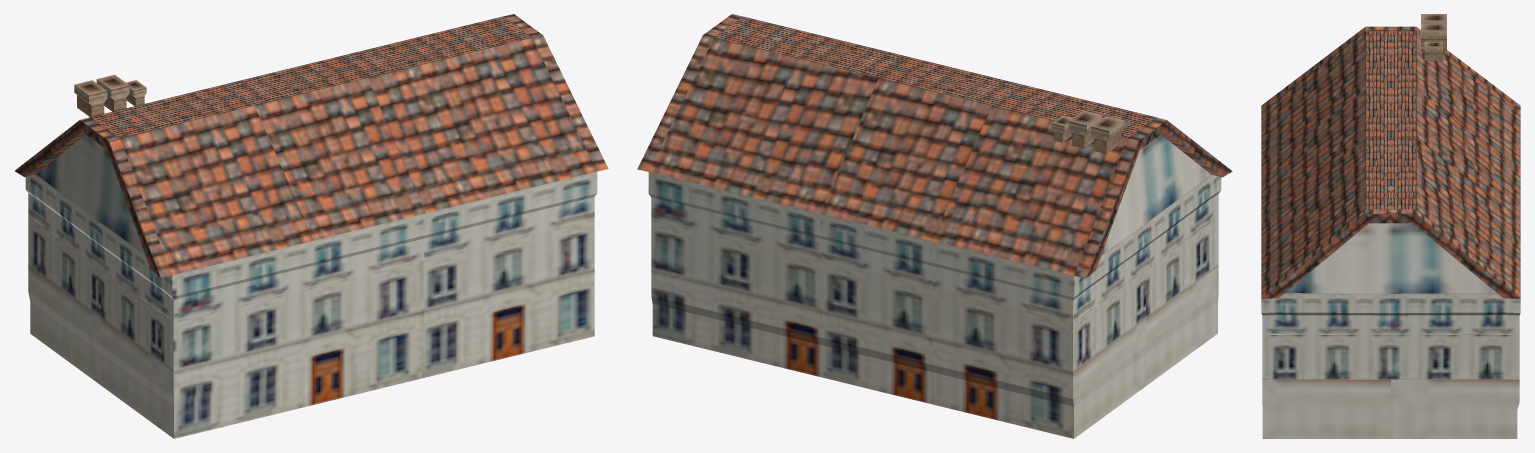
Rendered from Mesh_BuildingTypeC.fbx.
The picture shows the model from 3 angles, left to right: view 1: azimuth 30°, elevation 25°; view 2: azimuth 150°, elevation 25°; view 3: azimuth 270°, elevation 25°; orthographic projection. The views are drawn at different scales.
Visible parts, largest first — view 1: Box005; view 2: Box005; view 3: Box005.
Part boxes in pixels (x1,y1,x2,y2): Box005: (15,14,608,438); Box005: (637,14,1232,438); Box005: (1261,14,1520,438).
Size of the model in its own units: 929 by 550 by 527.
